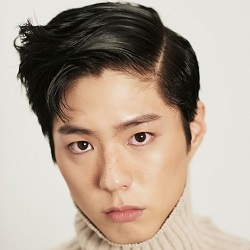unmask: (40, 68, 191, 241)
